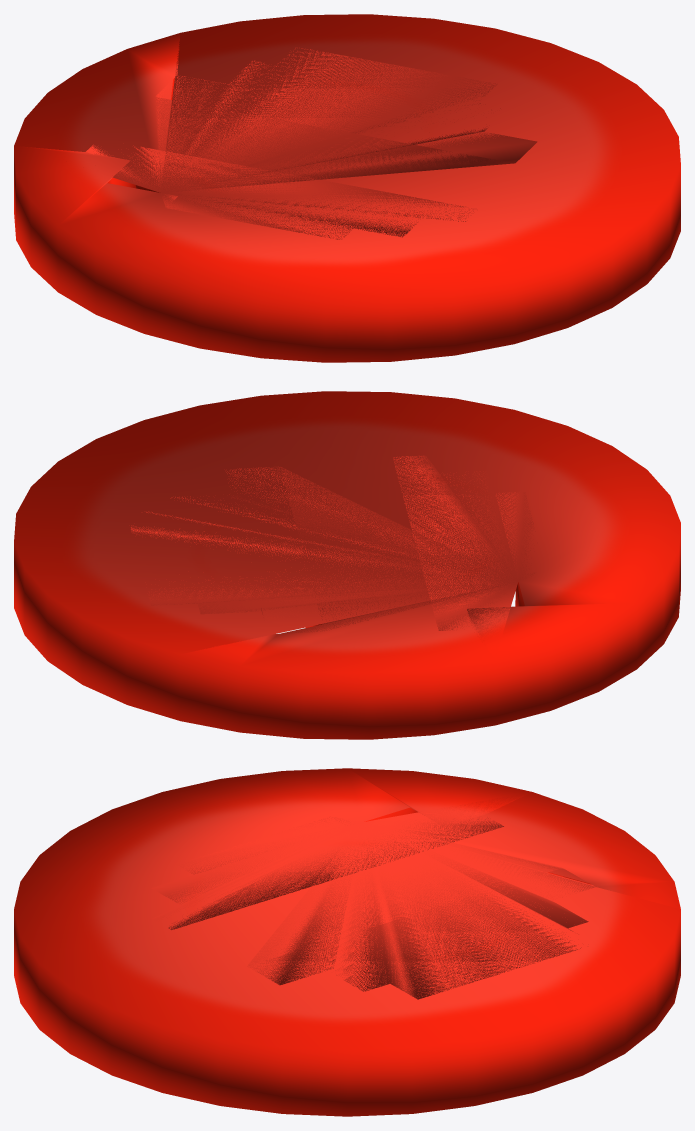
Rendered from tomatoslice.fbx.
3 views of the same model, one above another, from view 1: azimuth 30°, elevation 25°; view 2: azimuth 150°, elevation 25°; view 3: azimuth 270°, elevation 25° (orthographic).
Parts seen in each view (by area): view 1: Cylinder; view 2: Cylinder; view 3: Cylinder.
Part boxes in pixels (<box>): Cylinder: <box>14,14,680,362</box>; Cylinder: <box>14,391,680,739</box>; Cylinder: <box>14,768,680,1116</box>.
Size of the model in its own units: 200 by 22.02 by 200.
1 material, 1 textured.
